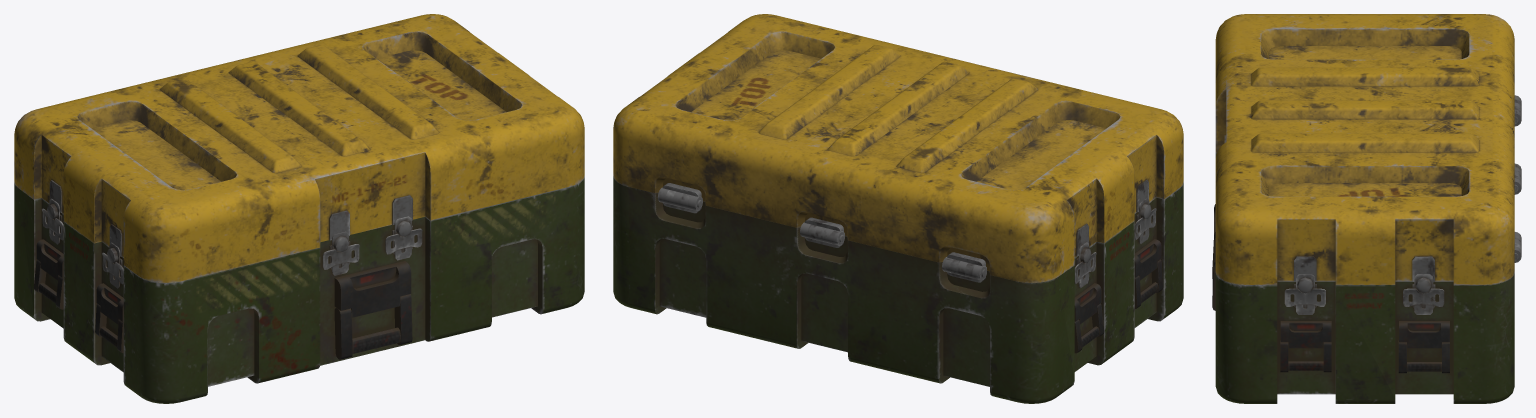
Rendered from MilitaryCaseUnity.fbx.
The picture shows the model from 3 angles, left to right: view 1: azimuth 30°, elevation 25°; view 2: azimuth 150°, elevation 25°; view 3: azimuth 270°, elevation 25°; orthographic projection.
Parts seen in each view (by area): view 1: Cap, Case; view 2: Cap, Case; view 3: Cap, Case.
Part boxes in pixels (x1=…): Cap: x1=14, y1=14, x2=584, y2=282; Case: x1=14, y1=176, x2=584, y2=403; Cap: x1=613, y1=14, x2=1183, y2=282; Case: x1=613, y1=176, x2=1183, y2=403; Cap: x1=1215, y1=14, x2=1521, y2=284; Case: x1=1212, y1=95, x2=1521, y2=403.
Bounding box in the file's own units: 486 × 208 × 297.
